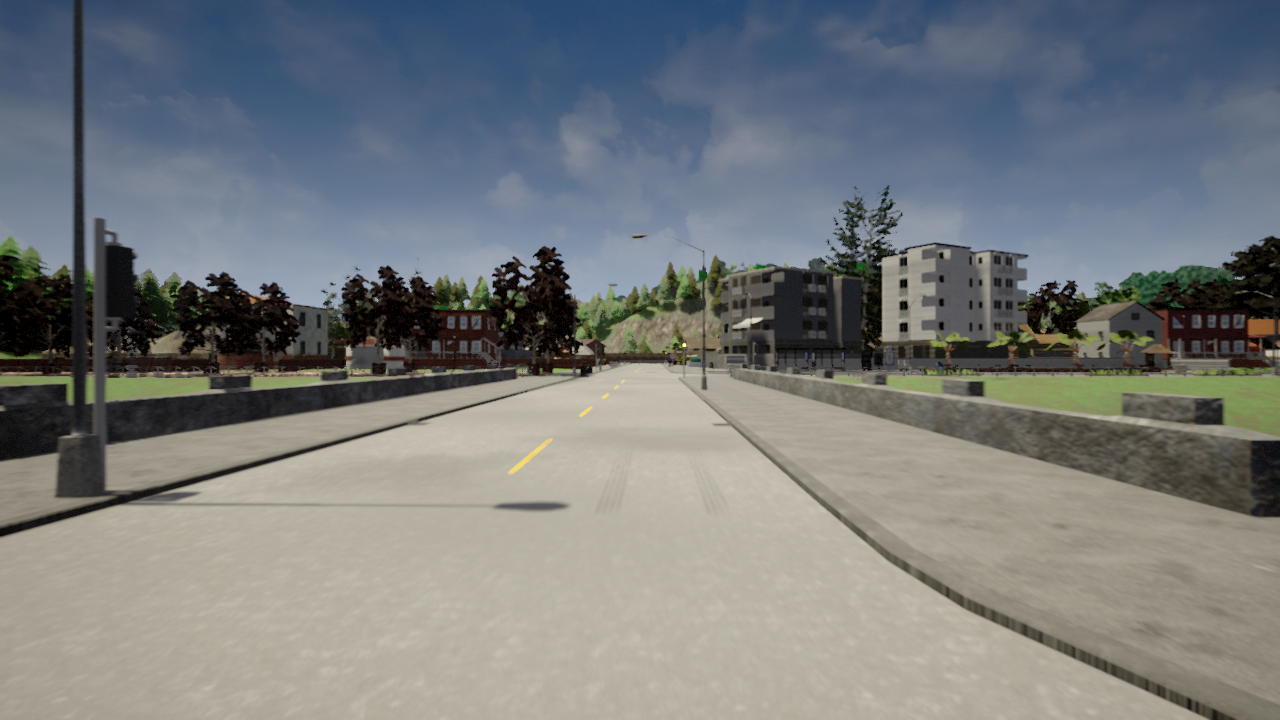yellow: (681, 340, 687, 352)
